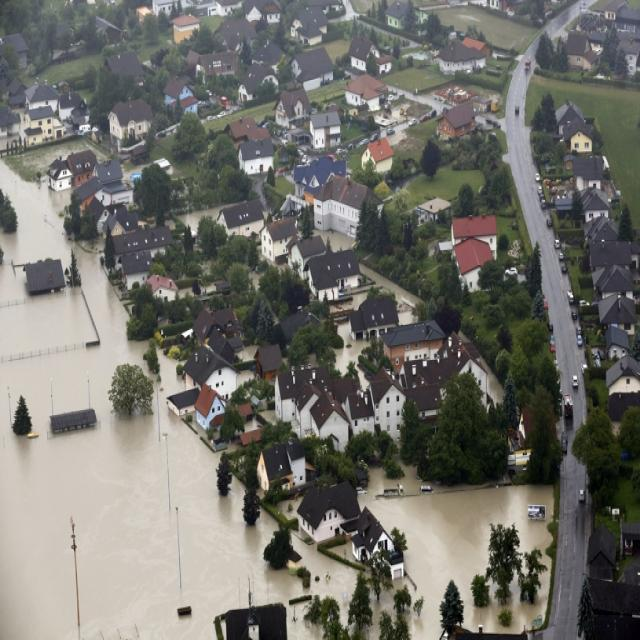flood: (0, 354, 301, 640), (0, 160, 142, 446), (361, 487, 555, 640), (286, 541, 359, 620), (362, 264, 421, 324), (330, 288, 369, 372), (509, 573, 550, 632), (368, 467, 421, 498), (287, 604, 322, 640), (179, 208, 219, 230), (314, 231, 355, 252)
house: (449, 210, 503, 290), (296, 478, 357, 538), (313, 174, 368, 238), (585, 572, 640, 636), (215, 598, 293, 640), (307, 249, 365, 303), (258, 438, 306, 501), (109, 218, 173, 265), (585, 220, 634, 280), (382, 320, 446, 364), (184, 344, 238, 396), (310, 390, 352, 450), (104, 100, 152, 152), (348, 294, 399, 342), (372, 366, 407, 432), (353, 506, 394, 560), (288, 45, 335, 90), (216, 200, 264, 240), (260, 214, 294, 270), (438, 33, 486, 72), (290, 156, 348, 188), (596, 290, 638, 332), (239, 61, 278, 106), (439, 96, 478, 140), (349, 36, 394, 74), (193, 383, 227, 433), (272, 370, 306, 420), (344, 72, 386, 112), (24, 260, 70, 294), (236, 139, 276, 178), (290, 8, 329, 48), (49, 405, 96, 438), (288, 234, 326, 274), (63, 145, 99, 186), (22, 107, 57, 148), (273, 90, 310, 128), (164, 80, 202, 117), (364, 133, 398, 173), (564, 152, 604, 185), (343, 392, 374, 434), (589, 524, 618, 568), (310, 112, 344, 149), (606, 358, 640, 395), (104, 52, 146, 81), (408, 383, 442, 418), (410, 196, 450, 224), (565, 33, 595, 69), (195, 51, 235, 78), (614, 0, 640, 40), (118, 253, 148, 287), (255, 344, 284, 379), (27, 82, 62, 110), (604, 326, 632, 361), (582, 188, 611, 220), (167, 387, 200, 415), (556, 100, 584, 133), (194, 310, 226, 338), (146, 274, 178, 302), (172, 14, 200, 46), (384, 0, 414, 28), (46, 159, 73, 190), (4, 33, 29, 66), (93, 158, 124, 184), (569, 122, 594, 152), (226, 116, 256, 140), (622, 522, 640, 560), (100, 184, 130, 206), (151, 0, 178, 18), (263, 1, 282, 26), (242, 0, 262, 22), (626, 46, 640, 75), (240, 430, 260, 444), (239, 403, 253, 420)
